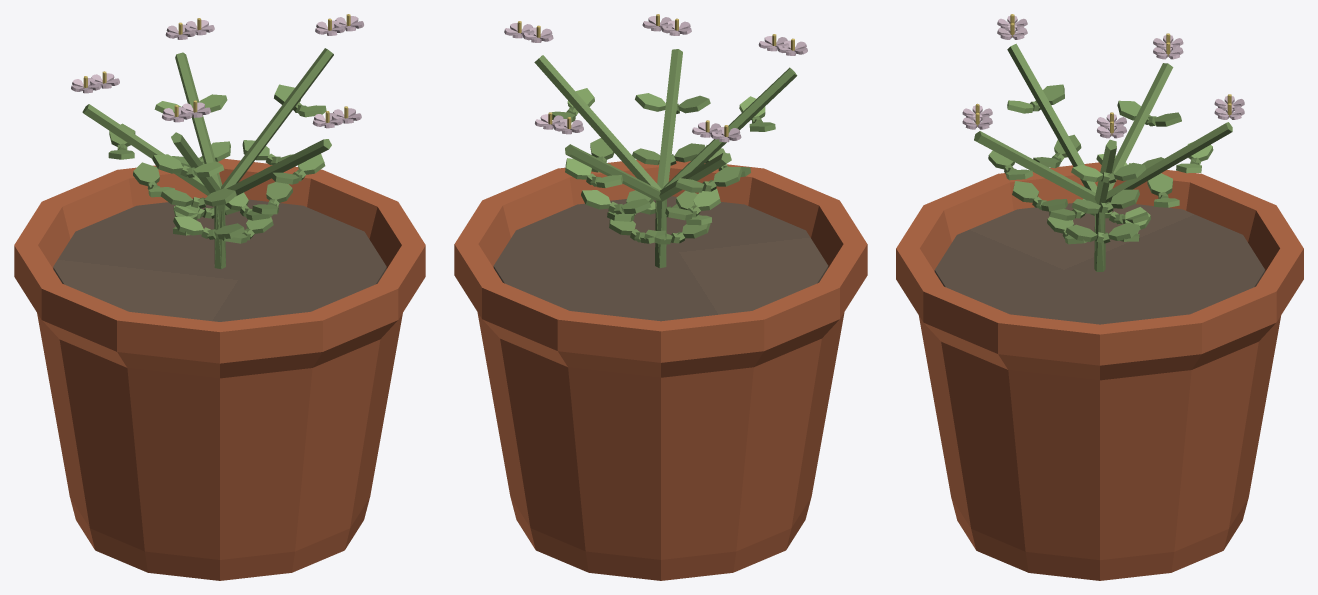
File: thyme.glb
The picture shows the model from 3 angles, left to right: view 1: azimuth 30°, elevation 25°; view 2: azimuth 150°, elevation 25°; view 3: azimuth 270°, elevation 25°; orthographic projection.
Visible parts, largest first — view 1: thyme/review-terra-vessel, thyme/review-rooted-soil, thyme/stem-082, thyme/stem-055, thyme/stem-001, thyme/stem-109, thyme/stem-028; view 2: thyme/review-terra-vessel, thyme/review-rooted-soil, thyme/stem-028, thyme/stem-082, thyme/stem-055, thyme/stem-109, thyme/stem-001; view 3: thyme/review-terra-vessel, thyme/review-rooted-soil, thyme/stem-055, thyme/stem-028, thyme/stem-109, thyme/stem-001, thyme/stem-082.
Boxes of the visible parts, bbox=[...] form: thyme/review-terra-vessel: bbox=[14, 158, 425, 580]; thyme/review-rooted-soil: bbox=[53, 198, 386, 321]; thyme/stem-082: bbox=[220, 48, 333, 223]; thyme/stem-055: bbox=[214, 139, 331, 268]; thyme/stem-001: bbox=[82, 104, 225, 267]; thyme/stem-109: bbox=[175, 52, 222, 188]; thyme/stem-028: bbox=[171, 132, 225, 268]; thyme/review-terra-vessel: bbox=[454, 159, 867, 580]; thyme/review-rooted-soil: bbox=[493, 196, 828, 321]; thyme/stem-028: bbox=[657, 67, 797, 267]; thyme/stem-082: bbox=[534, 55, 661, 201]; thyme/stem-055: bbox=[655, 49, 682, 267]; thyme/stem-109: bbox=[565, 144, 661, 200]; thyme/stem-001: bbox=[656, 153, 731, 263]; thyme/review-terra-vessel: bbox=[896, 162, 1303, 580]; thyme/review-rooted-soil: bbox=[934, 203, 1265, 324]; thyme/stem-055: bbox=[974, 131, 1105, 271]; thyme/stem-028: bbox=[1007, 43, 1096, 261]; thyme/stem-109: bbox=[1105, 122, 1232, 202]; thyme/stem-001: bbox=[1104, 63, 1173, 256]; thyme/stem-082: bbox=[1094, 139, 1116, 204].
Bounding box in the file's own units: 0.19 × 0.2386 × 0.19.
Materials: 5 (5 with a texture image).
